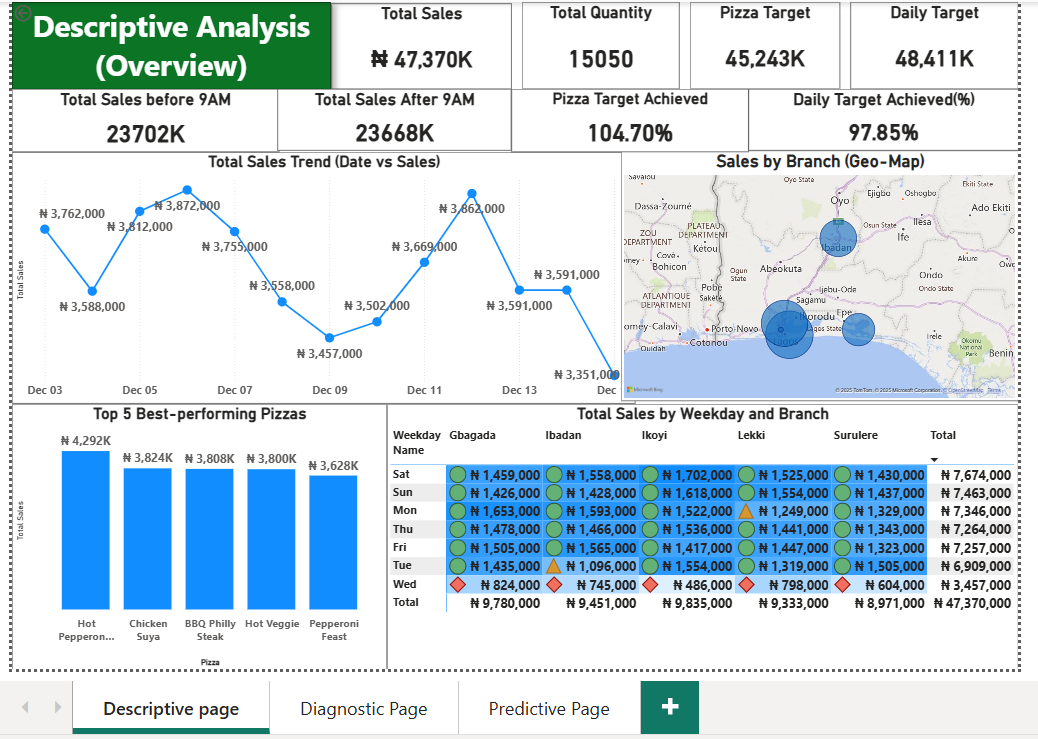

The dashboard page shown, as its layout file describes it:
{"tool":"powerbi","page":{"name":"Descriptive page","canvas":[1810,1200],"ordinal":0},"visuals":[{"type":"card","title":"Total Sales","fields":{"Values":["Sales Data.Total Sales"]},"box":[574.8,2.7,323.8,153.8],"z":0},{"type":"card","title":"Pizza Target","fields":{"Values":["Sales Target.Total Pizza Target"]},"box":[1219.8,0,269.9,156.5],"z":1000},{"type":"card","title":"Daily Target","fields":{"Values":["Daily Target.Total Daily Target"]},"box":[1508.6,0,302.3,156.5],"z":2000},{"type":"textbox","box":[0,0,573.5,157.4],"z":3000},{"type":"lineChart","title":"Total Sales Trend (Date vs Sales)","fields":{"Category":["Sales Data.Date"],"Y":["Sales Data.Total Sales"]},"box":[0,269.9,1121.7,452.6],"z":4000},{"type":"card","title":"Daily Target Achieved(%)","fields":{"Values":["Sales Data.Daily Target Achieved (%)"]},"box":[1325.1,156.5,485.8,110.6],"z":5000},{"type":"map","title":"Sales by Branch (Geo-Map)","fields":{"X":["Branch Data.Longitude"],"Y":["Branch Data.Lattitude"],"Size":["Sales Data.Total Sales"]},"box":[1095.7,267.2,715.2,450.7],"z":6000},{"type":"columnChart","title":"Top 5 Best-performing Pizzas","fields":{"Category":["Sales Target.Pizza"],"Y":["Sales Data.Total Sales"]},"box":[0,723.3,674.7,477.7],"z":7000},{"type":"card","title":"Total Sales before 9AM","fields":{"Values":["Sales Data.Sales Before 9AM"]},"box":[0,156.5,480.4,113.3],"z":8000},{"type":"actionButton","box":[0,0,100,40],"z":9000},{"type":"card","title":"Total Sales After 9AM","fields":{"Values":["Sales Data.Sales After 9AM"]},"box":[477.7,156.5,421,110.6],"z":10000},{"type":"card","title":"Total Quantity","fields":{"Values":["Sum(Sales Data.Quantity)"]},"box":[917.6,0,283.4,156.5],"z":11000},{"type":"pivotTable","title":"Total Sales by Weekday and Branch","fields":{"Values":["Sales Data.Total Sales"],"Rows":["Daily Target.Weekday Name"],"Columns":["Sales Data.Branch"]},"box":[674.7,723.3,1136.2,477.7],"z":12000},{"type":"card","title":"Pizza Target Achieved","fields":{"Values":["Sales Target.Pizza Target Achieved (%)"]},"box":[898.7,156.5,426.4,113.3],"z":13000}]}

Visuals, with their boxes on the page's 1810x1200 design canvas (x1, y1, x2, y2). These are canvas units, not pixel positions in the 1038x739 screenshot, which may show the page scaled, cropped or inside an application window:
"Total Sales" card: box(575, 3, 899, 156)
"Pizza Target" card: box(1220, 0, 1490, 156)
"Daily Target" card: box(1509, 0, 1811, 156)
textbox: box(0, 0, 574, 157)
"Total Sales Trend (Date vs Sales)" lineChart: box(0, 270, 1122, 722)
"Daily Target Achieved(%)" card: box(1325, 156, 1811, 267)
"Sales by Branch (Geo-Map)" map: box(1096, 267, 1811, 718)
"Top 5 Best-performing Pizzas" columnChart: box(0, 723, 675, 1201)
"Total Sales before 9AM" card: box(0, 156, 480, 270)
actionButton: box(0, 0, 100, 40)
"Total Sales After 9AM" card: box(478, 156, 899, 267)
"Total Quantity" card: box(918, 0, 1201, 156)
"Total Sales by Weekday and Branch" pivotTable: box(675, 723, 1811, 1201)
"Pizza Target Achieved" card: box(899, 156, 1325, 270)
